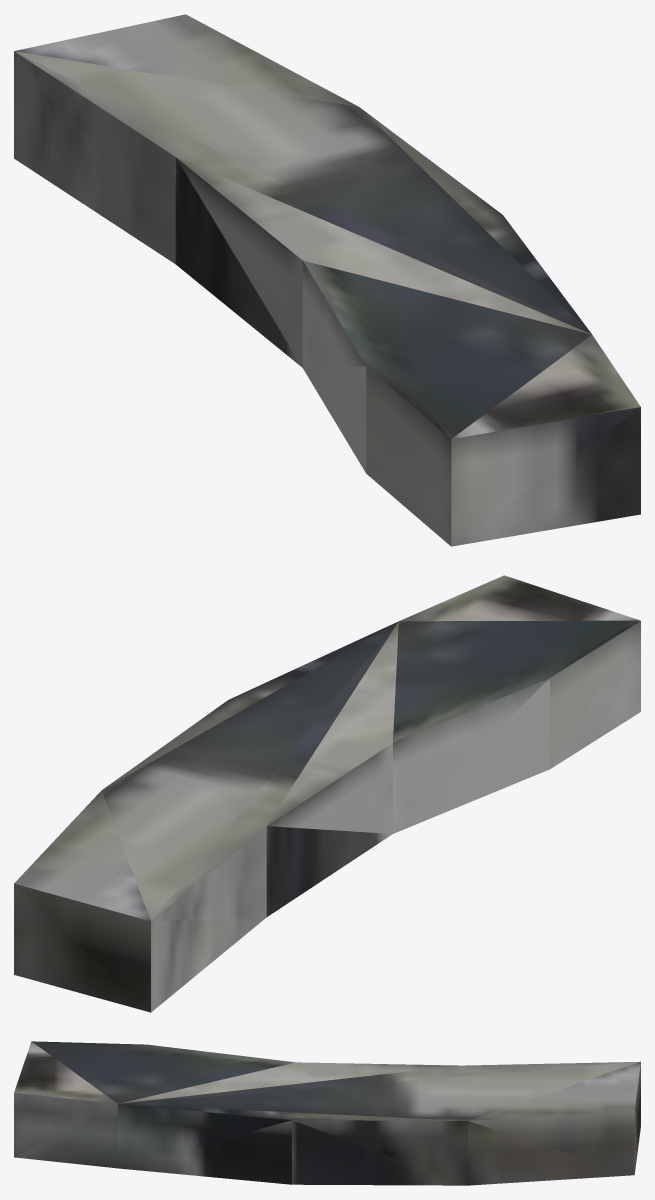
File: bridge_-1_-3.glb
The picture shows the model from 3 angles, top to bottom: view 1: azimuth 30°, elevation 25°; view 2: azimuth 150°, elevation 25°; view 3: azimuth 270°, elevation 25°; orthographic projection. The views are drawn at different scales.
Bounding box in the file's own units: 8.22 × 3.11 × 27.35.
2 materials, 1 textured.
